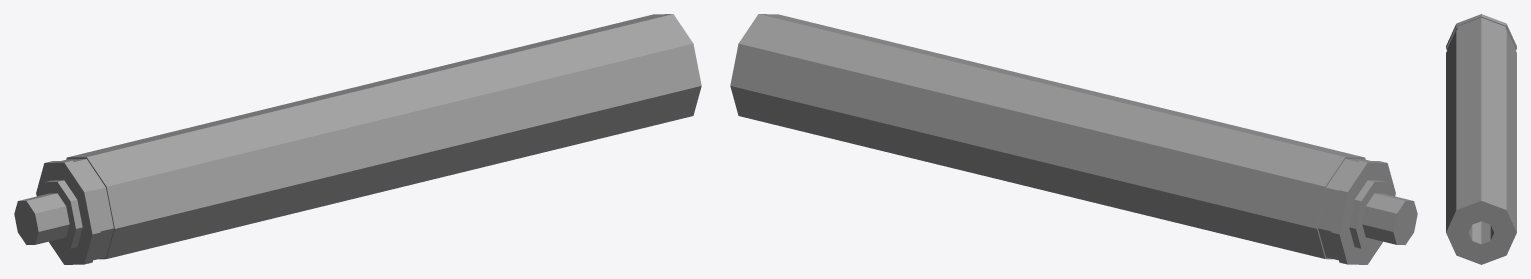
Rendered from Muffler_01_2.fbx.
3 renders of one model, left to right at view 1: azimuth 30°, elevation 25°; view 2: azimuth 150°, elevation 25°; view 3: azimuth 270°, elevation 25°, orthographic. The views are drawn at different scales.
Visible parts, largest first — view 1: Muffler_01_2; view 2: Muffler_01_2; view 3: Muffler_01_2.
Boxes of the visible parts, <box> form: Muffler_01_2: <box>14,14,701,264</box>; Muffler_01_2: <box>730,14,1417,264</box>; Muffler_01_2: <box>1446,14,1516,264</box>.
Bounding box in the file's own units: 0.2491 × 0.0376 × 0.0376.
